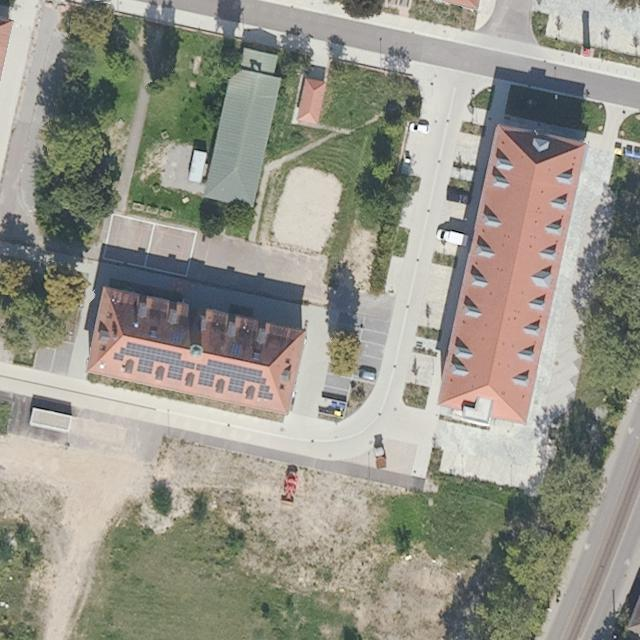PV: (195, 357, 276, 403), (112, 341, 196, 381)
